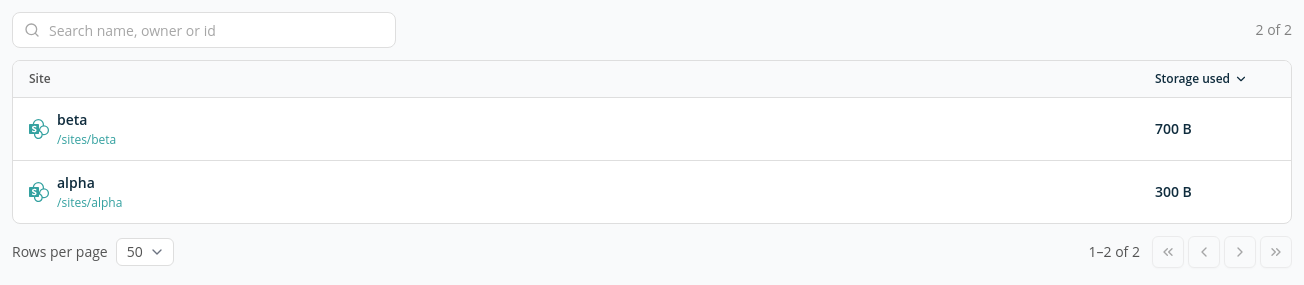
Test: SiteTable › column help › explains a sortable column on hover
Hover over the column heading "Storage used" at (1215, 79), box [1155,71,1275,87]
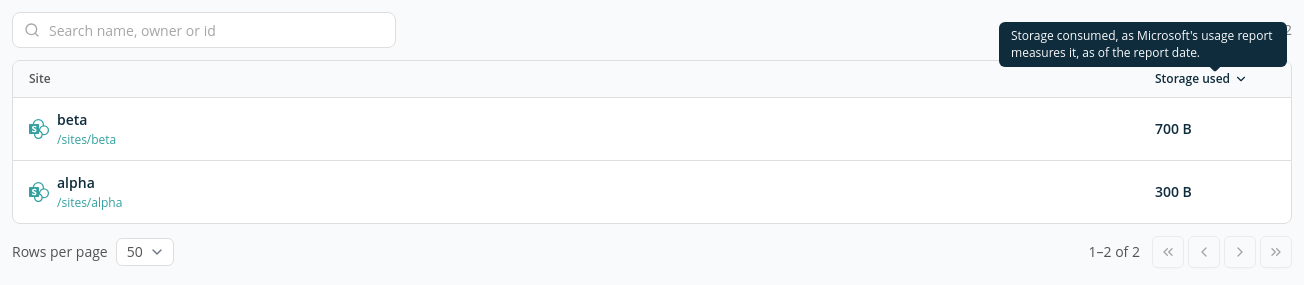
Result: the text "Storage consumed, as Microsoft's usage report measures it" is shown at [1011,27,1272,60]
